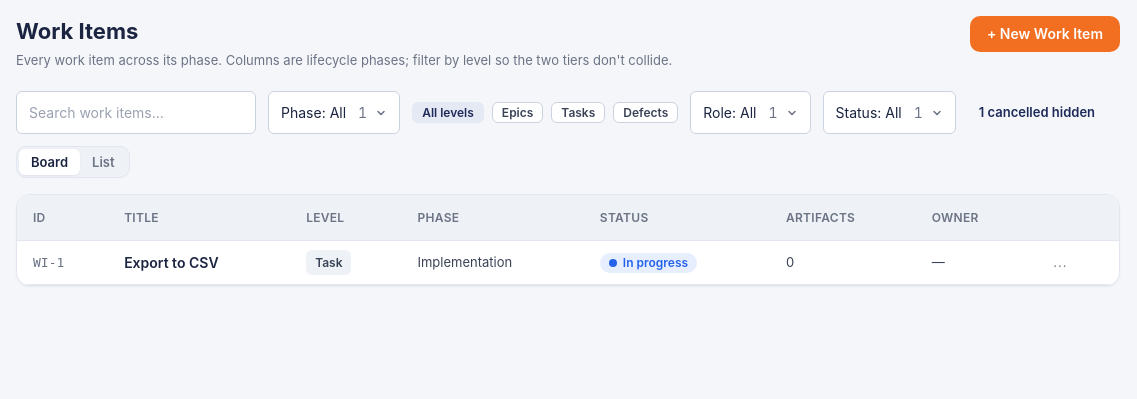
finding a cancelled item to reopen › offers Reopen on a cancelled row, and Cancel on a live one
The width and height of the screenshot is (1137, 399).
Step 1. Click the button "1 cancelled hidden" → (1037, 112), box [968,99,1106,126]
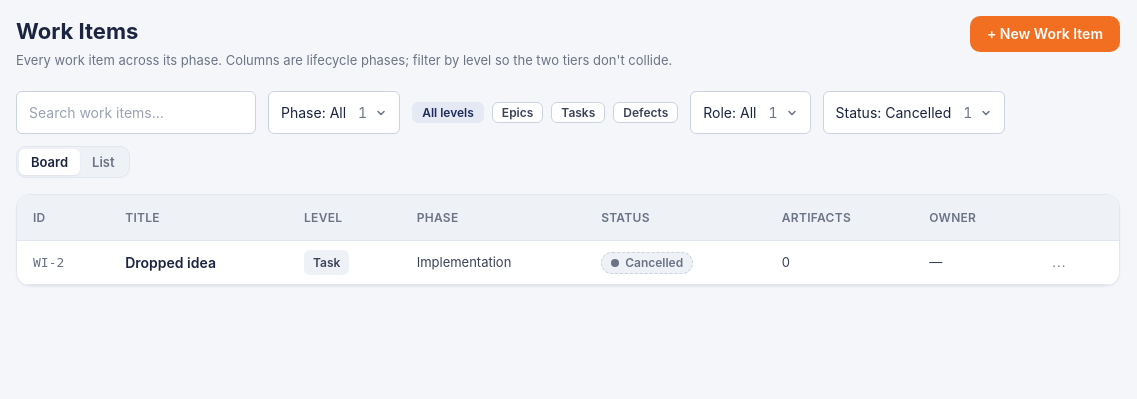
Result: the text "Dropped idea" is shown at [125,254,216,270]
Step 2. Click the button named "Actions for WI-2" → (1059, 262), box [1044,254,1075,271]
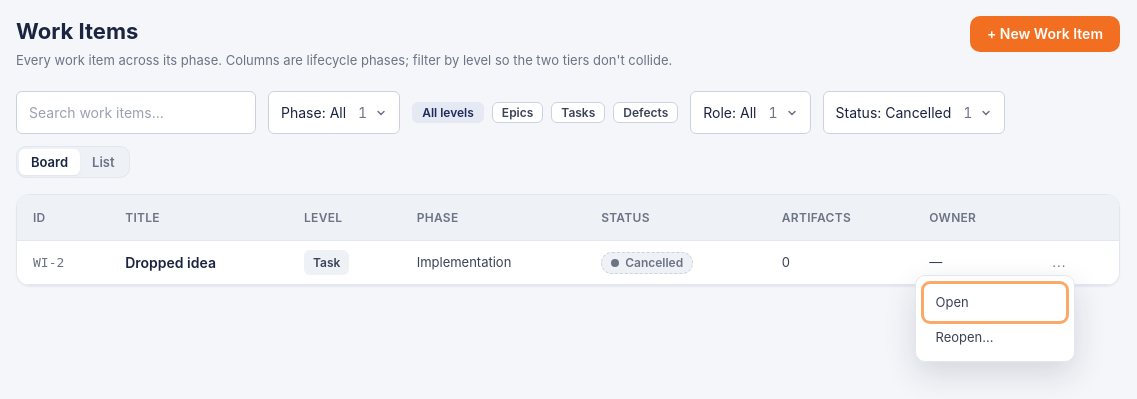
Result: the menu item "Reopen…" is shown at [924,321,1066,353]
